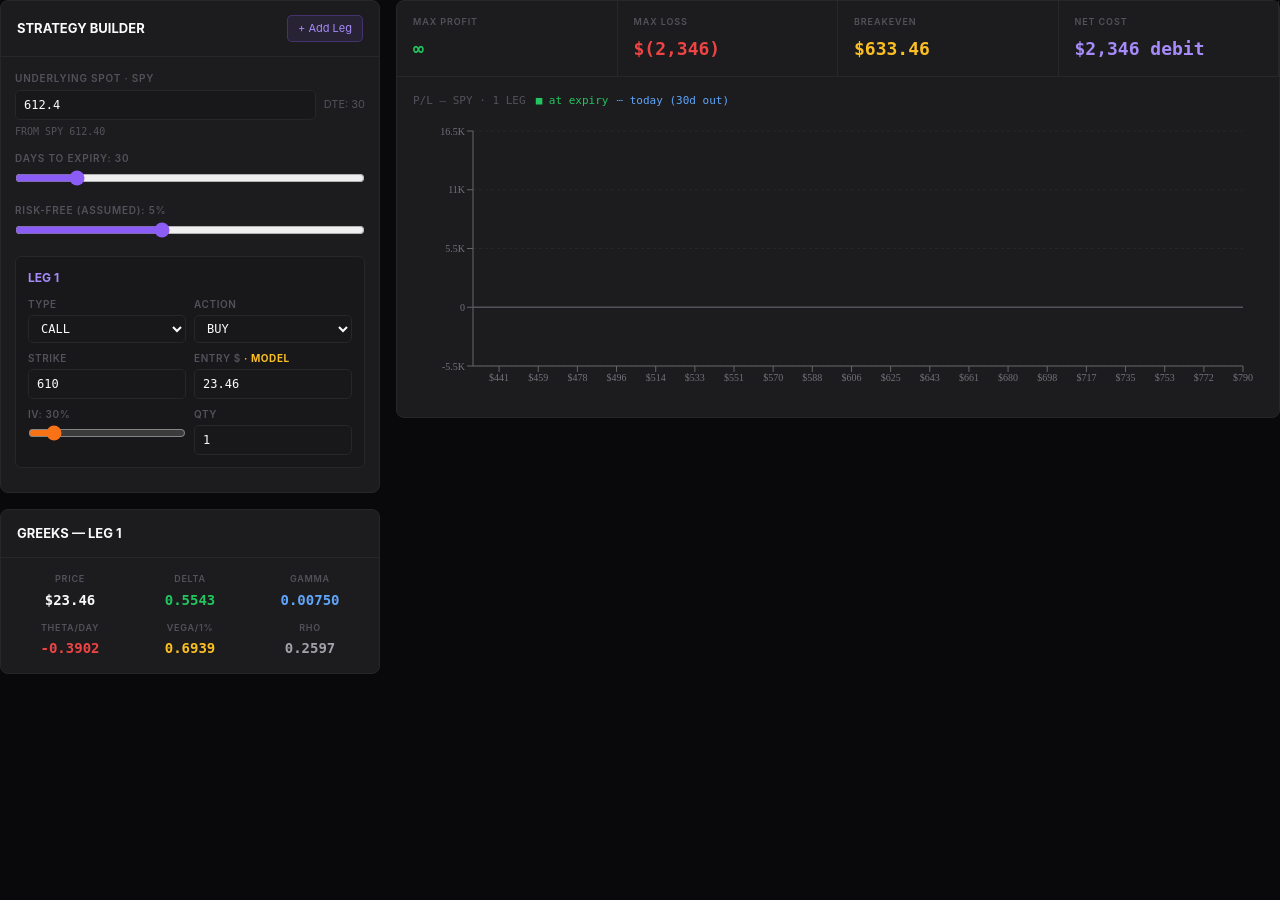
Test: selecting SELL changes the position › it flips the reported risk
The width and height of the screenshot is (1280, 900).
Expected: the text "$2,346 debit" is shown, [1074, 38, 1204, 58]
Expected: the text "FROM SPY 612.40" is shown, [15, 126, 105, 136]
Select "SELL" in the dropdown showing "BUY" below "ACTION" at (273, 328), box [194, 314, 352, 342]
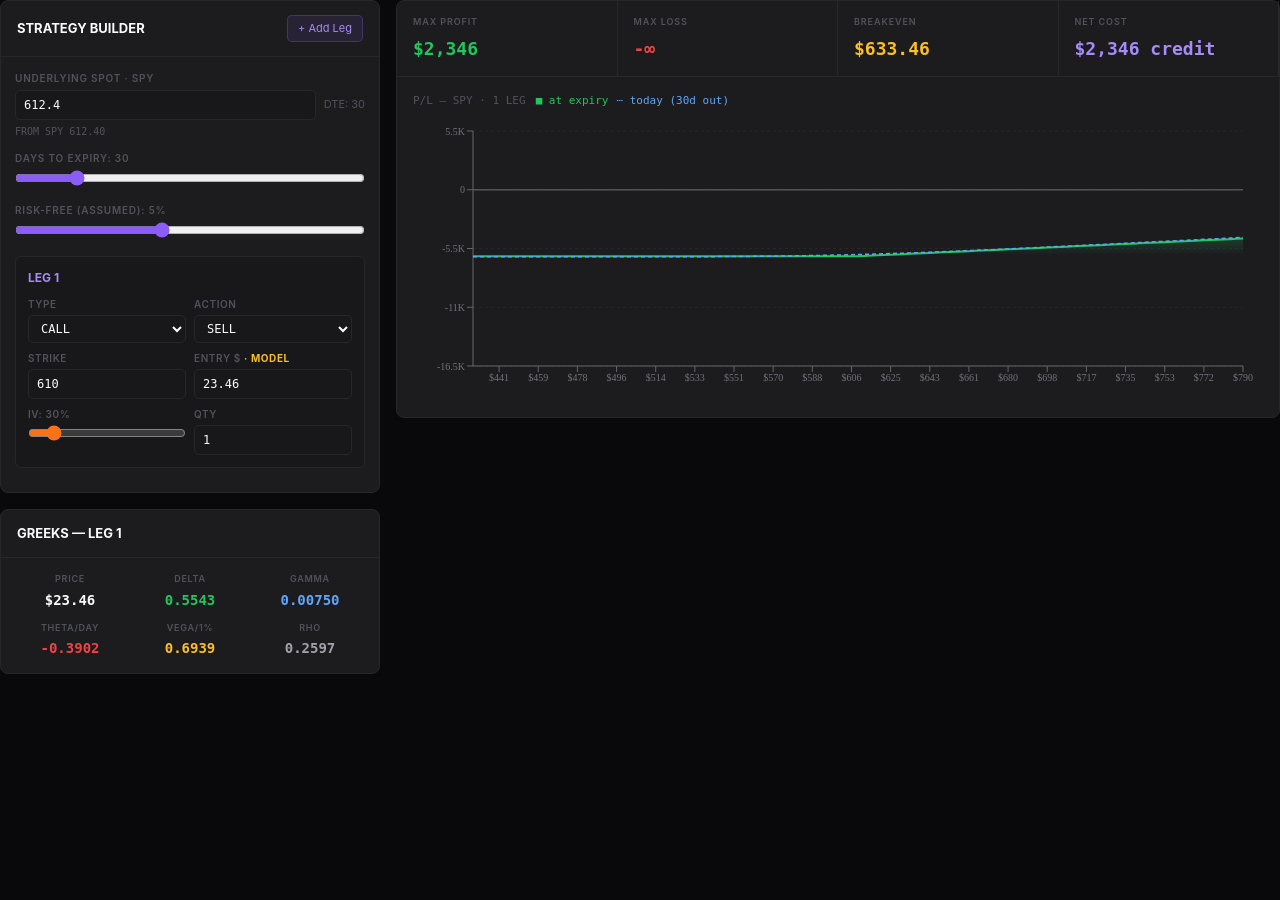
Expected: the text "credit" is shown, [1074, 38, 1215, 58]
Expected: the text "-∞" is shown, [634, 38, 655, 58]
